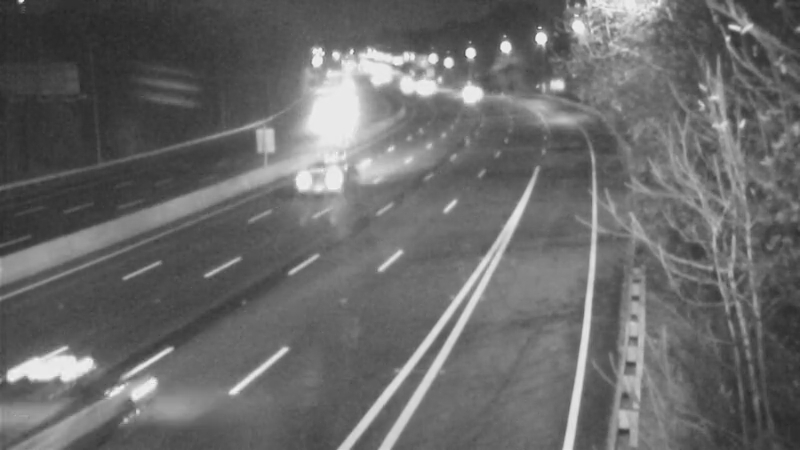vehicle: (1, 342, 107, 450), (247, 153, 327, 233), (448, 61, 498, 111), (314, 100, 364, 150)
